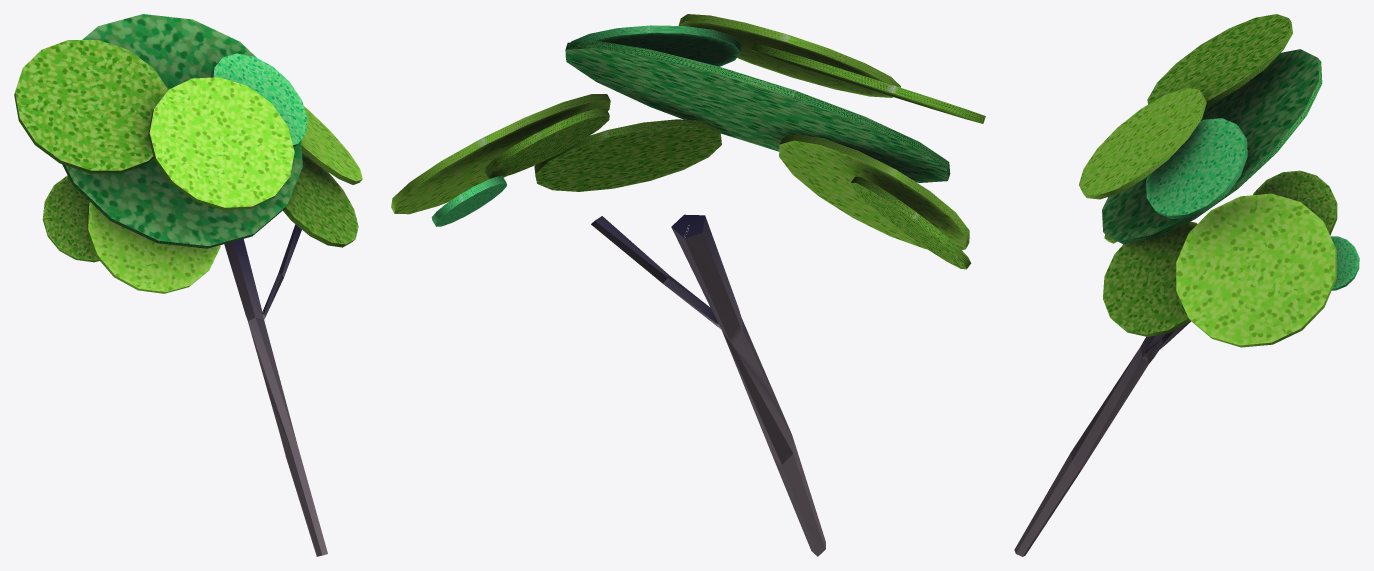
File: tree1.fbx
The picture shows the model from 3 angles, left to right: view 1: azimuth 30°, elevation 25°; view 2: azimuth 150°, elevation 25°; view 3: azimuth 270°, elevation 25°; orthographic projection. The views are drawn at different scales.
Visible parts, largest first — view 1: crown1, stem1; view 2: crown1, stem1; view 3: crown1, stem1.
Boxes of the visible parts, <box> form: crown1: <box>14,14,362,293</box>; stem1: <box>224,224,327,556</box>; crown1: <box>391,14,985,269</box>; stem1: <box>591,214,825,556</box>; crown1: <box>1079,14,1359,347</box>; stem1: <box>1014,321,1190,556</box>.
Bounding box in the file's own units: 28.05 × 34.67 × 23.28.
